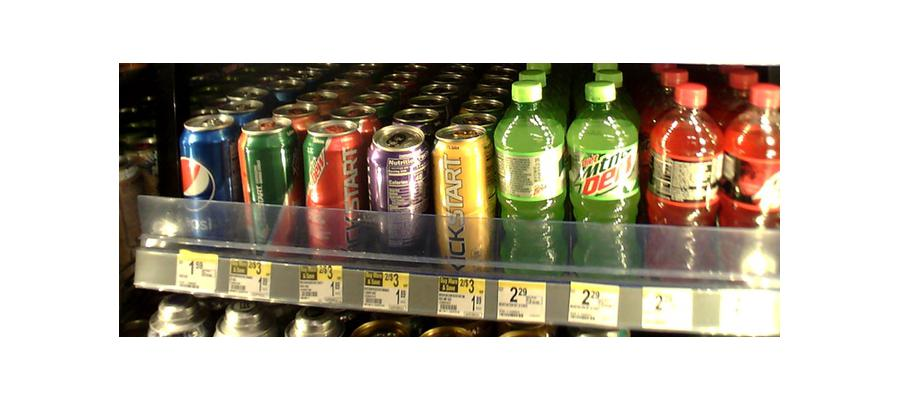bottle: (570, 77, 638, 272), (500, 78, 565, 273), (648, 81, 715, 268), (719, 76, 778, 252), (235, 115, 299, 250), (433, 121, 492, 265), (367, 124, 429, 256), (303, 119, 362, 250), (179, 108, 235, 242)
